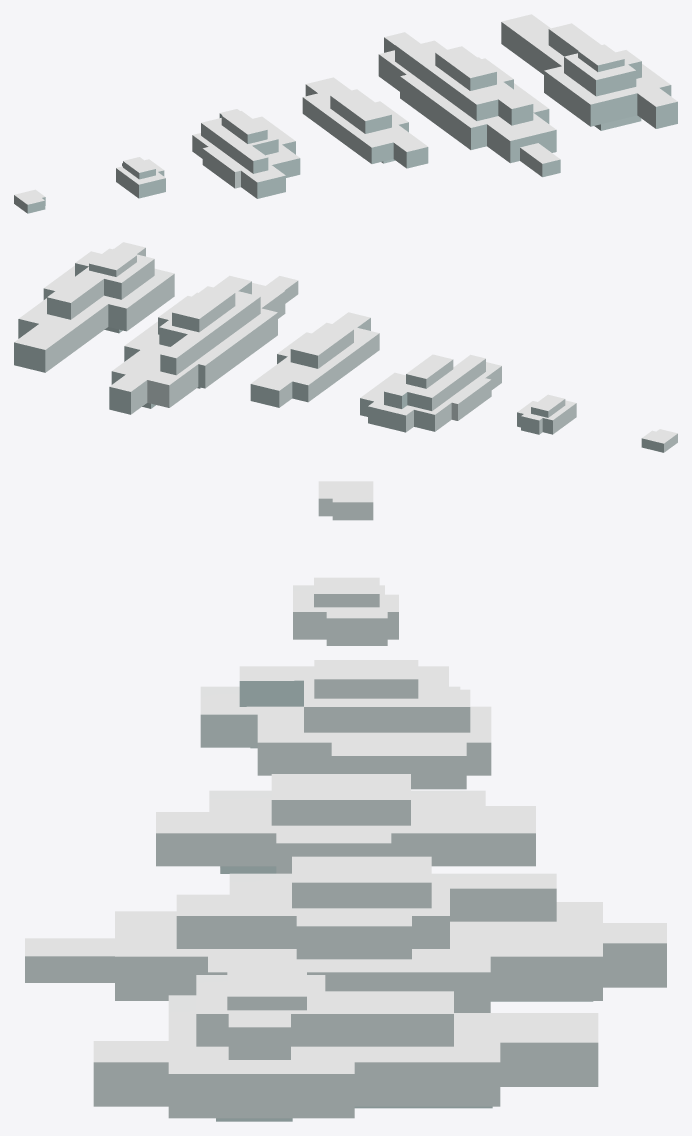
The model's file is Sky.gltf.
3 renders of one model, top to bottom at view 1: azimuth 30°, elevation 25°; view 2: azimuth 150°, elevation 25°; view 3: azimuth 270°, elevation 25°, orthographic. The views are drawn at different scales.
Parts seen in each view (by area): view 1: cloud_02, cloud_01, cloud_04, cloud_03, cloud_05, cloud_06; view 2: cloud_02, cloud_01, cloud_04, cloud_03, cloud_05, cloud_06; view 3: cloud_02, cloud_01, cloud_04, cloud_03, cloud_05, cloud_06.
Boxes of the visible parts, x1=… form: cloud_02: x1=378, y1=32, x2=560, y2=177; cloud_01: x1=501, y1=14, x2=677, y2=130; cloud_04: x1=192, y1=109, x2=300, y2=198; cloud_03: x1=302, y1=77, x2=428, y2=168; cloud_05: x1=116, y1=157, x2=165, y2=198; cloud_06: x1=14, y1=189, x2=45, y2=213; cloud_02: x1=109, y1=275, x2=298, y2=414; cloud_01: x1=14, y1=242, x2=174, y2=372; cloud_04: x1=360, y1=354, x2=501, y2=432; cloud_03: x1=250, y1=312, x2=379, y2=407; cloud_05: x1=517, y1=394, x2=576, y2=434; cloud_06: x1=641, y1=429, x2=677, y2=452; cloud_02: x1=25, y1=856, x2=666, y2=1012; cloud_01: x1=93, y1=970, x2=598, y2=1121; cloud_04: x1=200, y1=660, x2=491, y2=789; cloud_03: x1=156, y1=774, x2=535, y2=873; cloud_05: x1=293, y1=577, x2=398, y2=645; cloud_06: x1=318, y1=481, x2=373, y2=520.
Size of the model in its own units: 109 by 10.18 by 50.08.
1 material, 1 textured.
